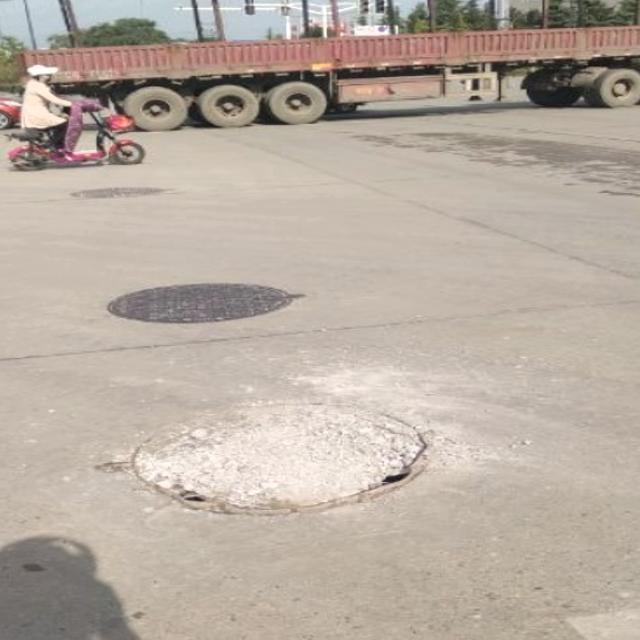broke: (100, 402, 429, 514)
good: (103, 280, 305, 326)
